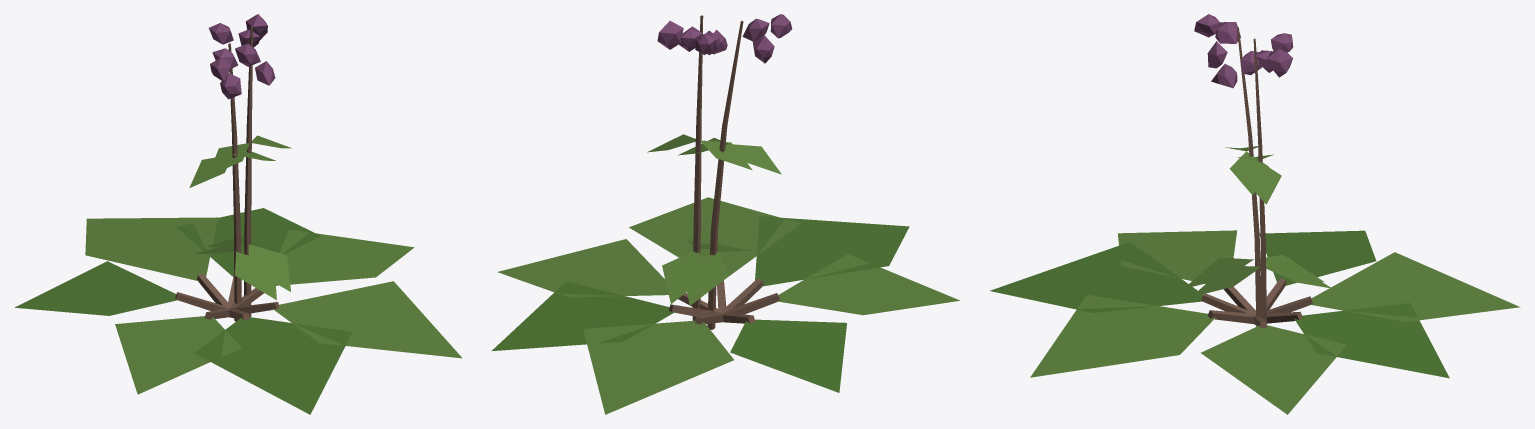
Rendered from weed_burdock_idle.glb.
3 renders of one model, left to right at view 1: azimuth 30°, elevation 25°; view 2: azimuth 150°, elevation 25°; view 3: azimuth 270°, elevation 25°, orthographic. The views are drawn at different scales.
Parts seen in each view (by area): view 1: weed_burdock; view 2: weed_burdock; view 3: weed_burdock.
Boxes of the visible parts, x1,y1,x2,y2 form: weed_burdock: (15, 14, 462, 414); weed_burdock: (491, 14, 959, 414); weed_burdock: (990, 14, 1520, 414).
Size of the model in its own units: 0.9437 by 0.7279 by 1.16.
